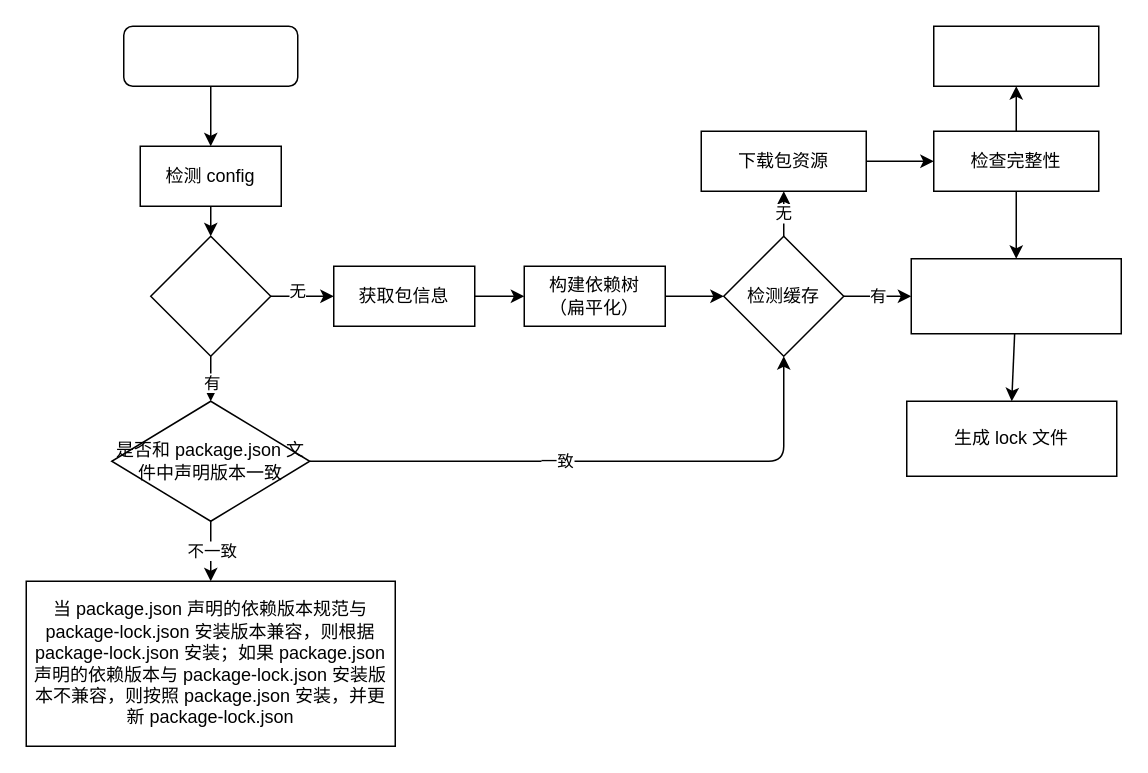
Image size: 1148x773. Some labels were removed from this diagram. Each missing label, with the centre of its shape:
"npm install" belongs at point (210, 55).
"有无 lock" belongs at point (210, 295).
"添加到缓存" belongs at point (1015, 55).
"解压到 node_module" belongs at point (1015, 295).
